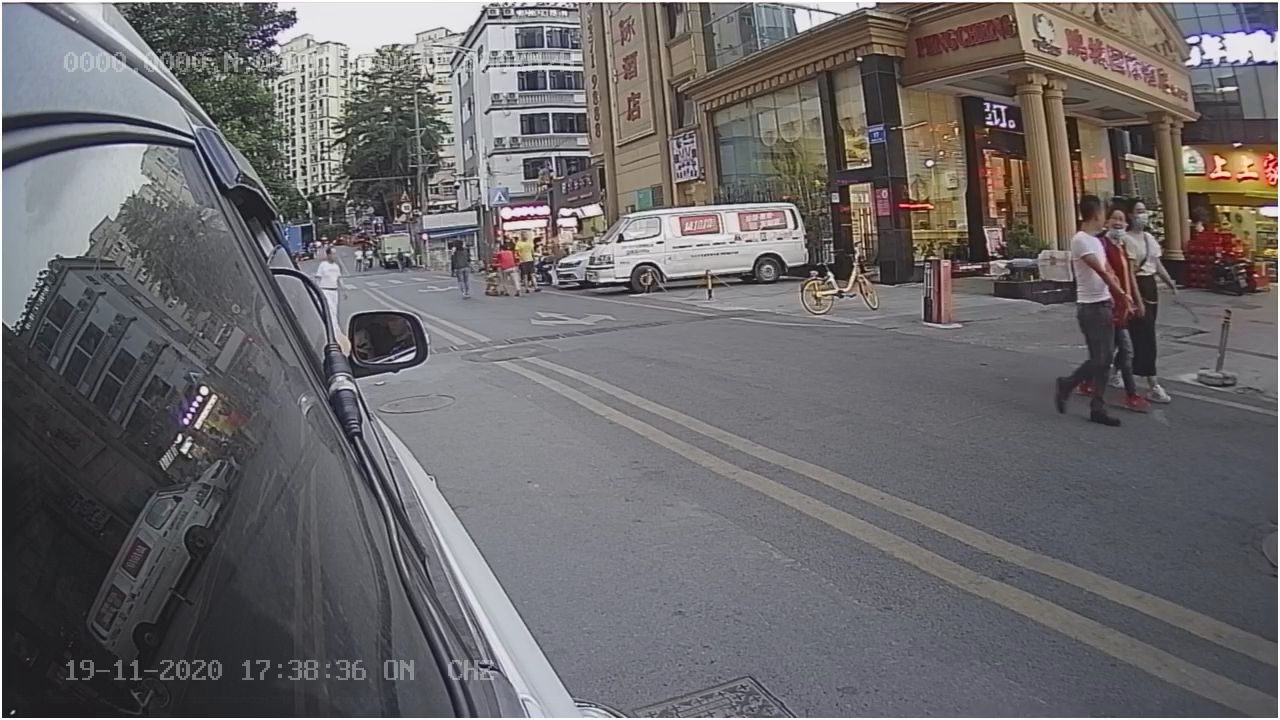person: (1044, 192, 1139, 429)
